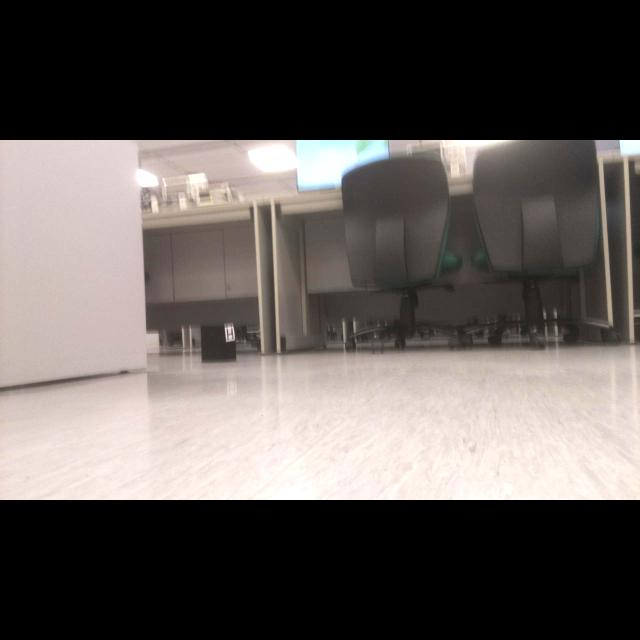H: (227, 328, 234, 341)
